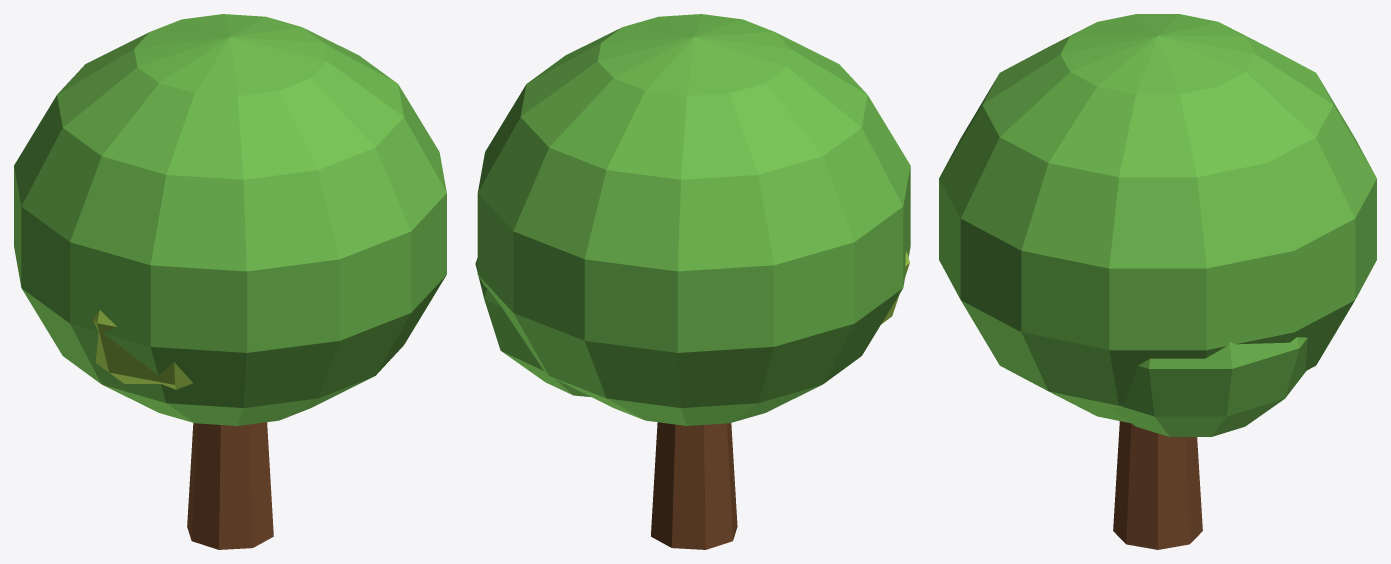
The model's file is tree_round.glb.
3 renders of one model, left to right at view 1: azimuth 30°, elevation 25°; view 2: azimuth 150°, elevation 25°; view 3: azimuth 270°, elevation 25°, orthographic.
Visible parts, largest first — view 1: tree_round; view 2: tree_round; view 3: tree_round.
Part boxes in pixels (box(x1,y1,x2,y2)): tree_round: box(14, 14, 446, 549); tree_round: box(475, 14, 910, 549); tree_round: box(939, 14, 1376, 549).
Bounding box in the file's own units: 1.05 × 1.34 × 1.07.
